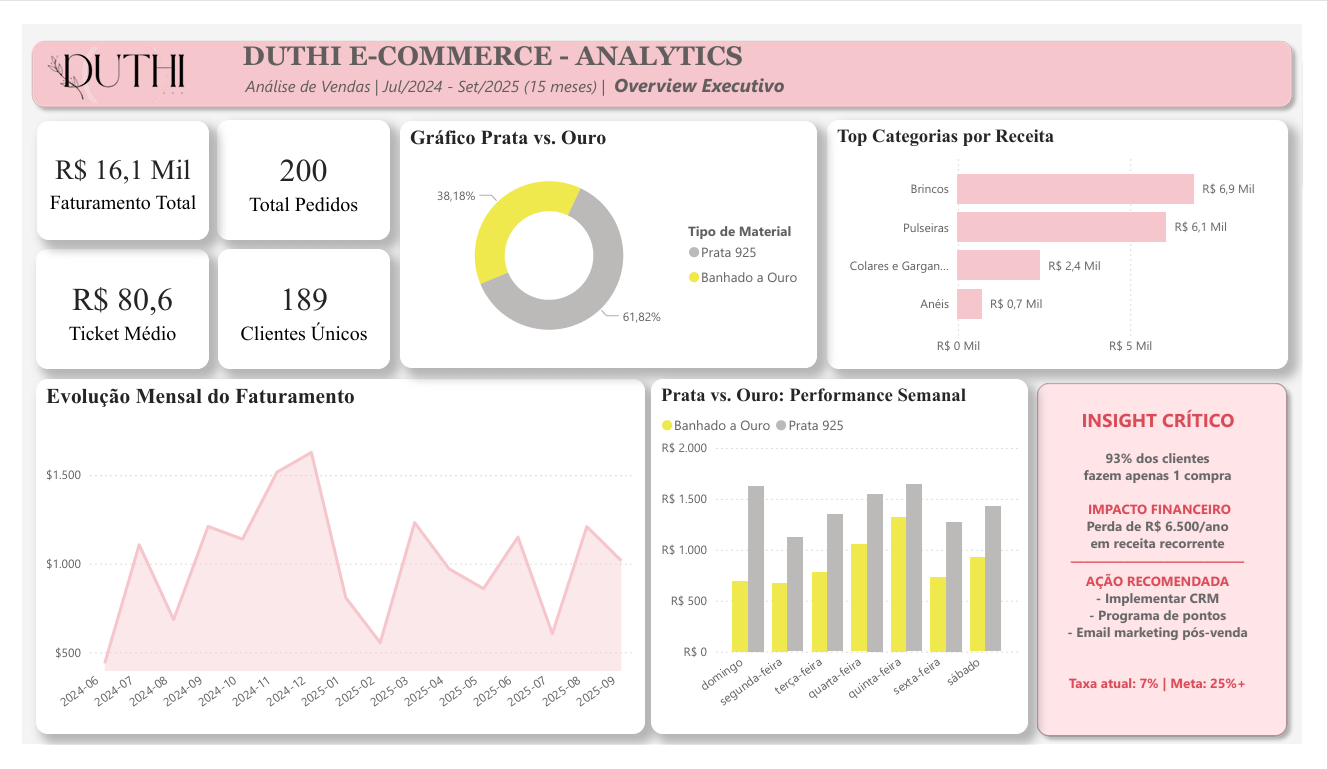

What the dashboard file says about the page in this screenshot:
{"tool":"powerbi","page":{"name":"Overview Executivo","canvas":[1280,720],"ordinal":0},"visuals":[{"type":"clusteredBarChart","title":"Top Categorias por Receita","fields":{"Y":["_Medidas.Faturamento Catalogado"],"Category":["public vw_fato_completa_powerbi.categoria_principal (grupos)"]},"box":[804.4,95.2,460.5,248.7],"z":0},{"type":"shape","box":[1005,349.3,268,370.6],"z":0,"group":"g1"},{"type":"shape","box":[0,6.9,1278.2,83.8],"z":1000},{"type":"textbox","box":[1001,340.2,267,343.2],"z":1000,"group":"g1"},{"type":"card","fields":{"Values":["_Medidas.Total Pedidos"]},"box":[193.9,95.2,173.3,120.3],"z":2000},{"type":"textbox","box":[200.1,6.3,1058.3,91],"z":3000},{"type":"card","fields":{"Values":["_Medidas.Ticket Médio"]},"box":[13.5,223.5,172.4,120.3],"z":4000},{"type":"card","title":"asdsad","fields":{"Values":["_Medidas.Faturamento Total"]},"box":[13.5,95.5,172.2,119.9],"z":5000},{"type":"card","fields":{"Values":["Sum(public vw_kpis_principais.clientes_unicos)"]},"box":[194.8,223.5,172.4,120.3],"z":6000},{"type":"group","id":"g1","title":"Grupo 2","box":[1001,340.2,272,379.8],"z":6001,"group":"g2"},{"type":"areaChart","title":"Evolução Mensal do Faturamento","fields":{"Category":["public vw_vendas_mensais.ano_mes"],"Y":["Sum(public vw_vendas_mensais.faturamento_mensal)"]},"box":[13.5,353.7,608.7,355.5],"z":7000},{"type":"group","id":"g2","title":"Grupo 1","box":[1001,340.2,272,379.8],"z":8000},{"type":"donutChart","title":"Gráfico Prata vs. Ouro","fields":{"Category":["public vw_fato_completa_powerbi.Tipo Material"],"Y":["Sum(public vw_fato_completa_powerbi.valor_total_item)"]},"box":[376.8,95.5,417.4,247.9],"z":9000},{"type":"clusteredColumnChart","title":"Prata vs. Ouro: Performance Semanal","fields":{"Category":["dCalendario.Dia Semana Nome"],"Y":["Sum(public vw_fato_completa_powerbi.valor_total_item)"],"Series":["public vw_fato_completa_powerbi.Tipo Material"]},"box":[628.4,353.7,376.2,355.5],"z":10000},{"type":"image","box":[0,23.4,200.1,55],"z":11000}]}

Visuals, with their boxes in screenshot pixels (x1, y1, x2, y2), scaled from the page's 1280x720 canvas onto the 1327x769 screenshot:
"Top Categorias por Receita" clusteredBarChart: 834/102/1311/367
shape: 1042/373/1320/768
shape: 0/7/1325/97
textbox: 1038/363/1315/730
card - _Medidas.Total Pedidos: 201/102/381/230
textbox: 207/7/1305/104
card - _Medidas.Ticket Médio: 14/239/193/367
"asdsad" card: 14/102/193/230
card - Sum(public vw_kpis_principais.clientes_unicos): 202/239/381/367
"Grupo 2" group: 1038/363/1320/768
"Evolução Mensal do Faturamento" areaChart: 14/378/645/757
"Grupo 1" group: 1038/363/1320/768
"Gráfico Prata vs. Ouro" donutChart: 391/102/823/367
"Prata vs. Ouro: Performance Semanal" clusteredColumnChart: 651/378/1041/757
image: 0/25/207/84
